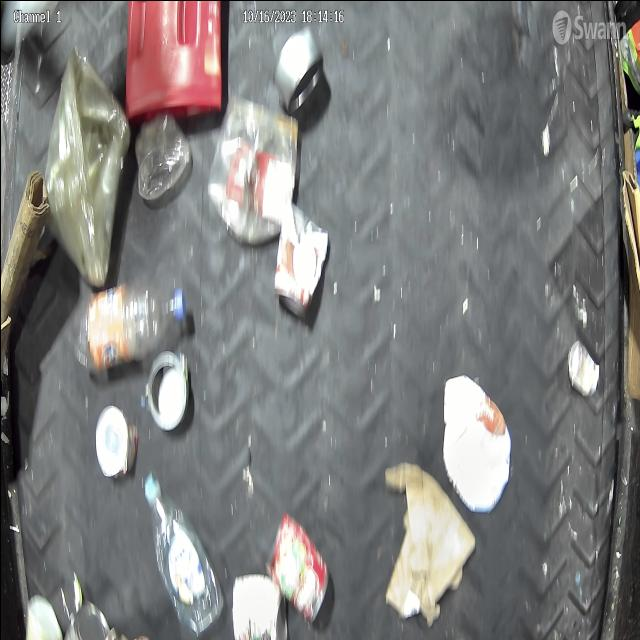can: (266, 511, 328, 623), (274, 203, 328, 318), (274, 24, 324, 110), (231, 572, 287, 640), (94, 404, 138, 478), (148, 350, 188, 430), (63, 602, 111, 640)
milk_jug: (442, 375, 509, 511)
non_white_jug: (125, 0, 222, 120)
plastic_bottle: (142, 470, 222, 640), (84, 286, 185, 368)
